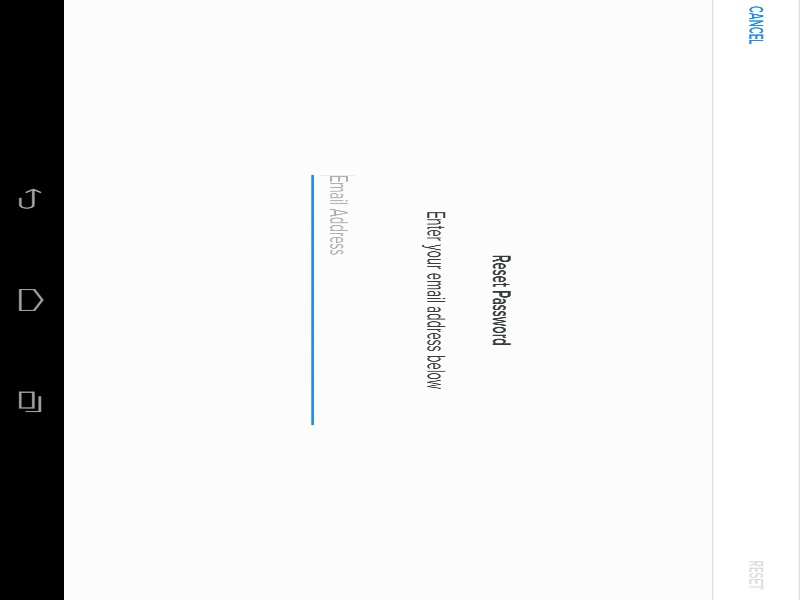Button: (10, 3, 96, 37)
